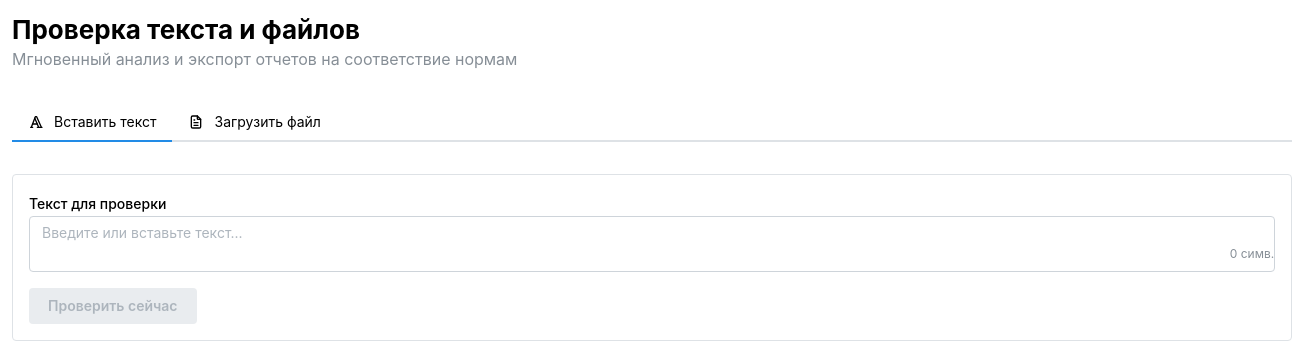
TextPage › должен разблокировать кнопку проверки для непустого текста
Type "Тестовый текст" into the text box labelled "Текст для проверки".
click(652, 244); type("Тестовый текст")  # box [29, 216, 1275, 272]
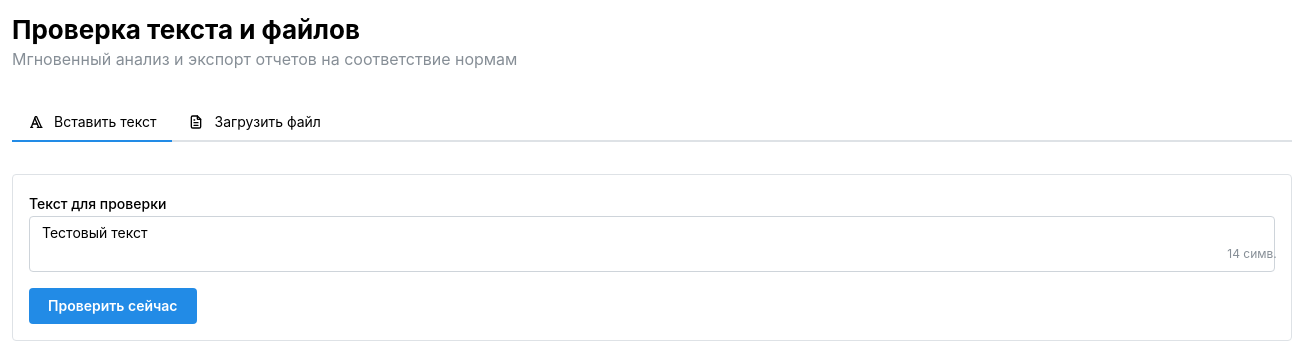
Expected: the button "Проверить сейчас" is enabled, [29, 288, 196, 324]
